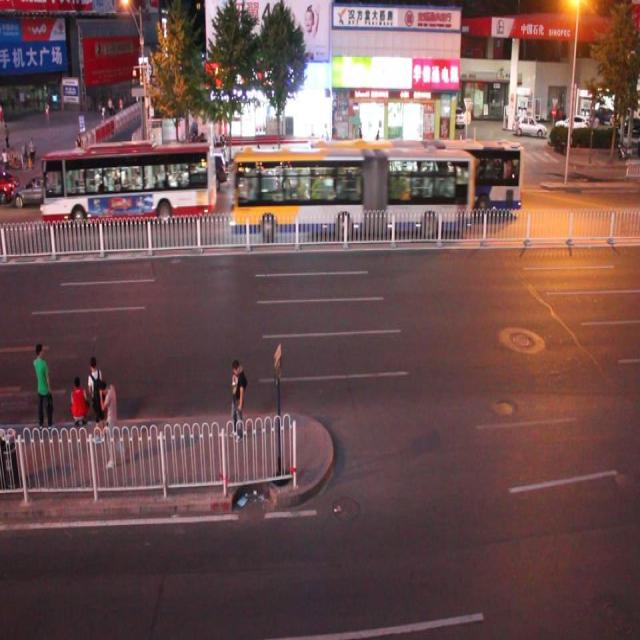car: (70, 171, 125, 215), (468, 160, 518, 206), (282, 162, 328, 200), (187, 148, 227, 189), (14, 173, 62, 206), (1, 164, 17, 202)
van: (230, 148, 473, 240), (304, 137, 522, 216), (39, 144, 216, 225)
